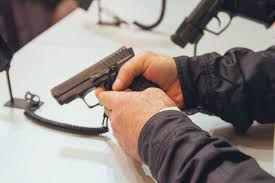gun: (45, 41, 165, 113)
